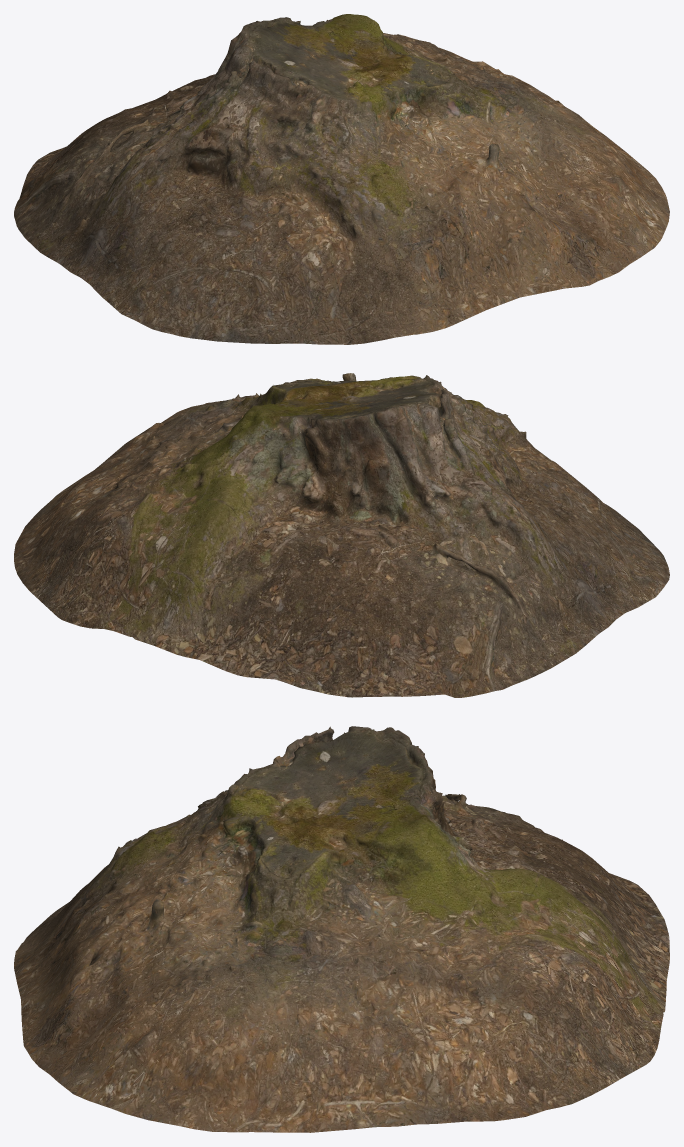
Rendered from tree_stump_02.glb.
3 renders of one model, top to bottom at view 1: azimuth 30°, elevation 25°; view 2: azimuth 150°, elevation 25°; view 3: azimuth 270°, elevation 25°, orthographic. The views are drawn at different scales.
Parts seen in each view (by area): view 1: tree_stump_02; view 2: tree_stump_02; view 3: tree_stump_02.
Part boxes in pixels (x1,y1,x2,y2): tree_stump_02: (14,14,669,344); tree_stump_02: (14,373,669,697); tree_stump_02: (14,726,669,1132).
Bounding box in the file's own units: 1.52 × 0.522 × 1.39.
Materials: 1 (1 with a texture image).
